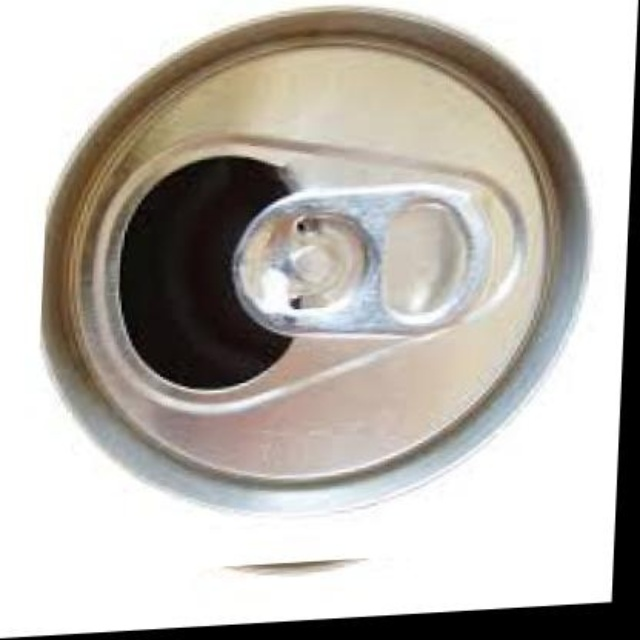trash: (43, 8, 585, 505)
